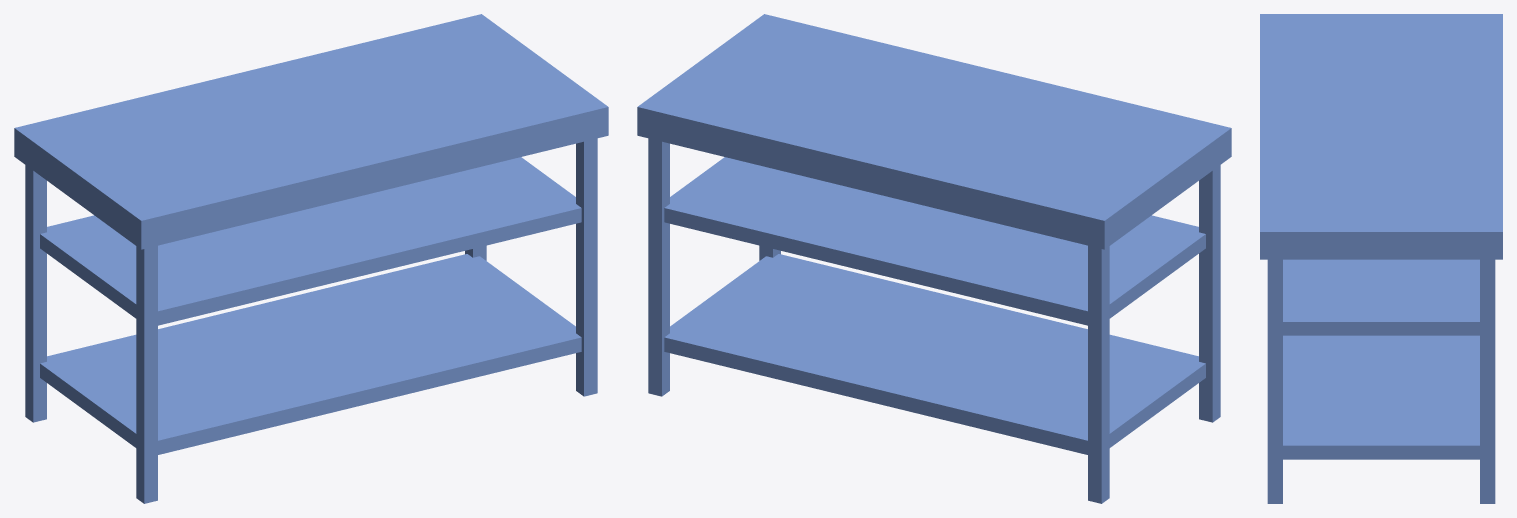
File: rcFoodTruckCounter.FBX
3 renders of one model, left to right at view 1: azimuth 30°, elevation 25°; view 2: azimuth 150°, elevation 25°; view 3: azimuth 270°, elevation 25°, orthographic. The views are drawn at different scales.
Visible parts, largest first — view 1: foodTruckCounter; view 2: foodTruckCounter; view 3: foodTruckCounter.
Boxes of the visible parts, x1,y1,x2,y2 form: foodTruckCounter: (14,14,608,503); foodTruckCounter: (637,14,1231,503); foodTruckCounter: (1260,14,1502,503).
Bounding box in the file's own units: 1.7 × 1 × 0.8.
